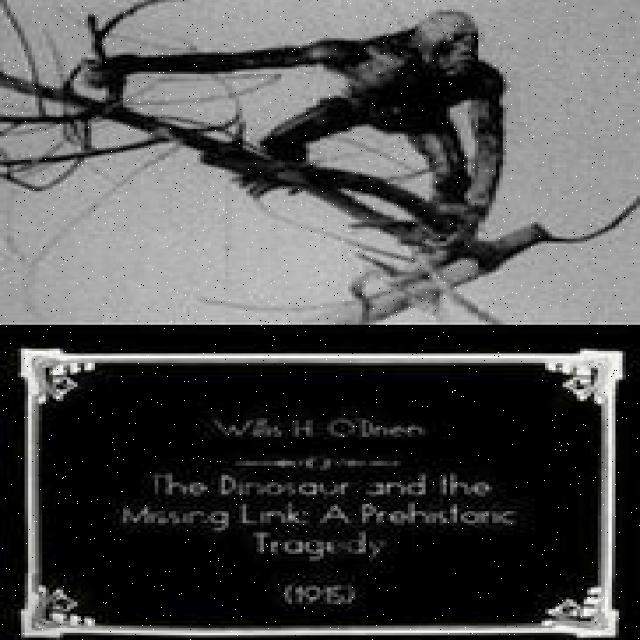movie-judul: (122, 468, 528, 561)
picture: (2, 1, 640, 324)
